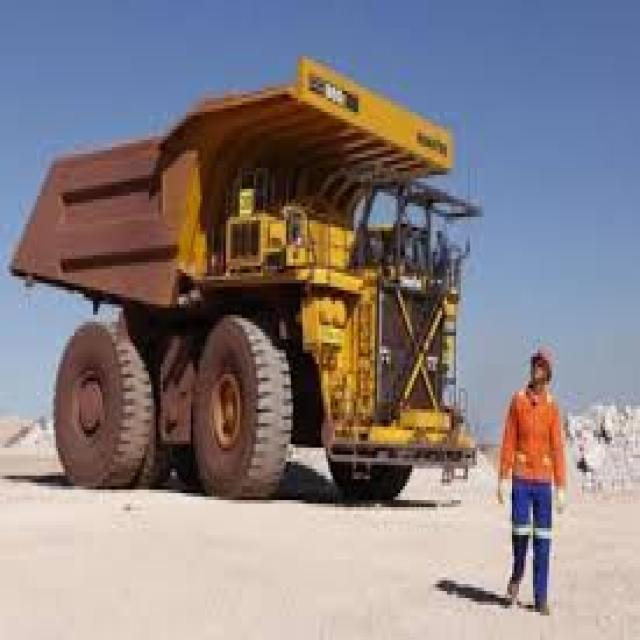dump_truck: (18, 46, 474, 514)
